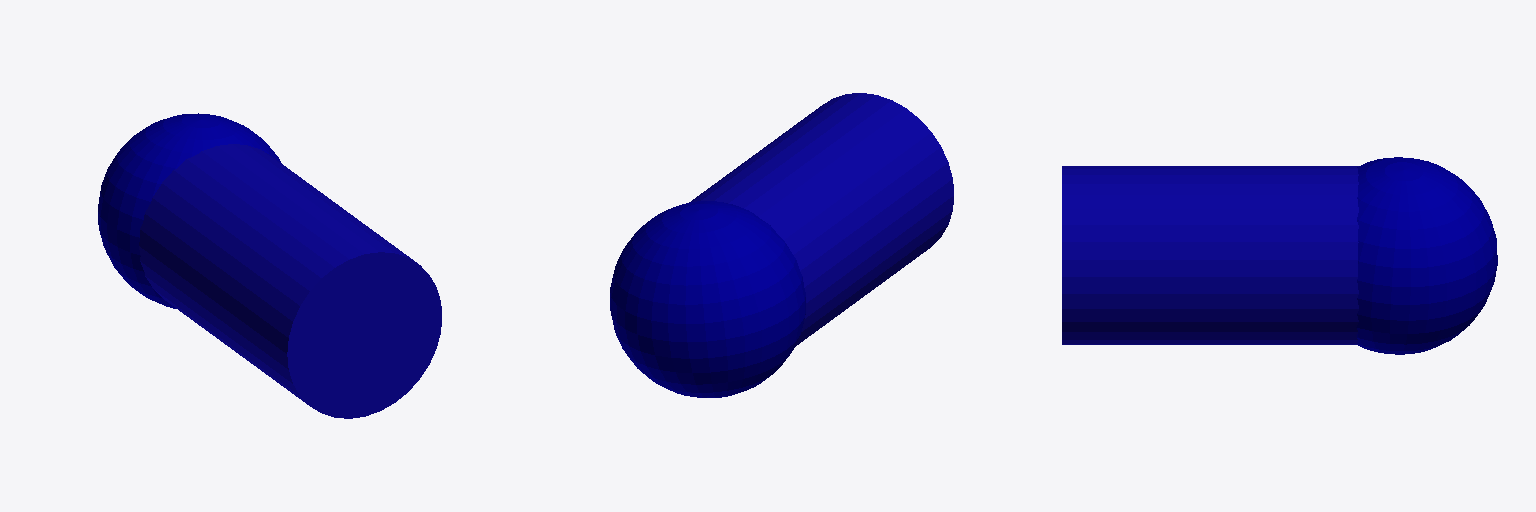
Rendered from boneTip.obj.
3 renders of one model, left to right at view 1: azimuth 30°, elevation 25°; view 2: azimuth 150°, elevation 25°; view 3: azimuth 270°, elevation 25°, orthographic.
Visible parts, largest first — view 1: Cylinder, Sphere; view 2: Cylinder, Sphere; view 3: Cylinder, Sphere.
Part boxes in pixels (x1,y1,x2,y2): Cylinder: (139, 144, 441, 418); Sphere: (98, 113, 280, 308); Cylinder: (689, 93, 953, 346); Sphere: (610, 201, 805, 397); Cylinder: (1062, 166, 1358, 344); Sphere: (1356, 157, 1497, 354).
Size of the model in its own units: 0.2742 by 0.2748 by 0.6072.